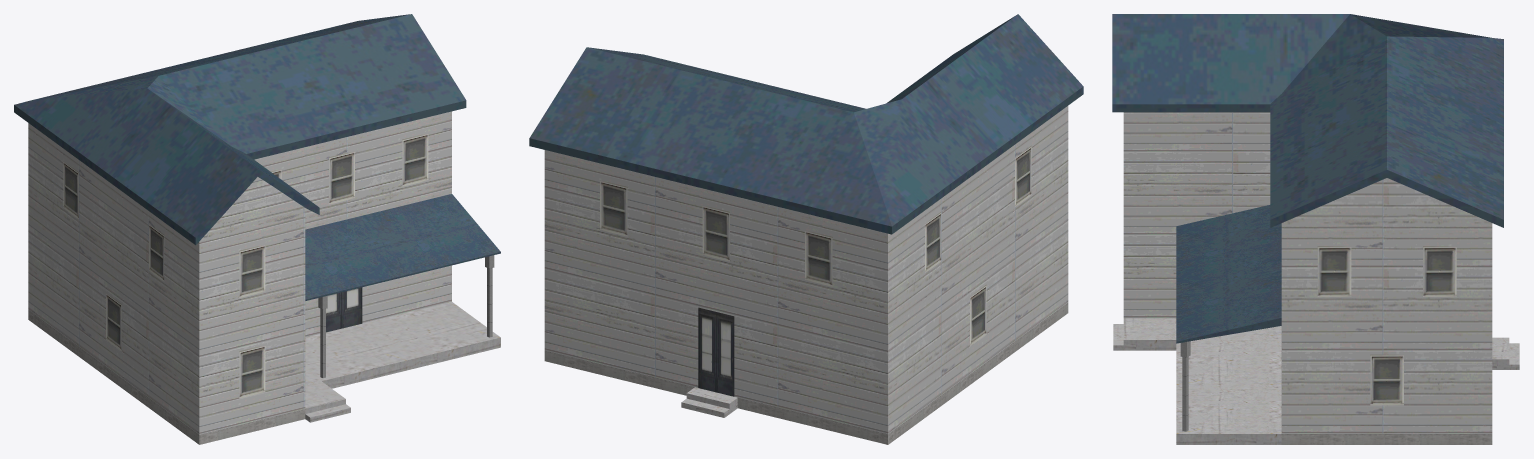
3 renders of one model, left to right at view 1: azimuth 30°, elevation 25°; view 2: azimuth 150°, elevation 25°; view 3: azimuth 270°, elevation 25°, orthographic. The views are drawn at different scales.
Parts seen in each view (by area): view 1: PSX House; view 2: PSX House; view 3: PSX House.
Part boxes in pixels (<box>): PSX House: <box>14,14,500,444</box>; PSX House: <box>529,14,1083,444</box>; PSX House: <box>1112,14,1519,444</box>.
Size of the model in its own units: 7.16 by 5.31 by 6.82.
7 materials, 7 textured.
